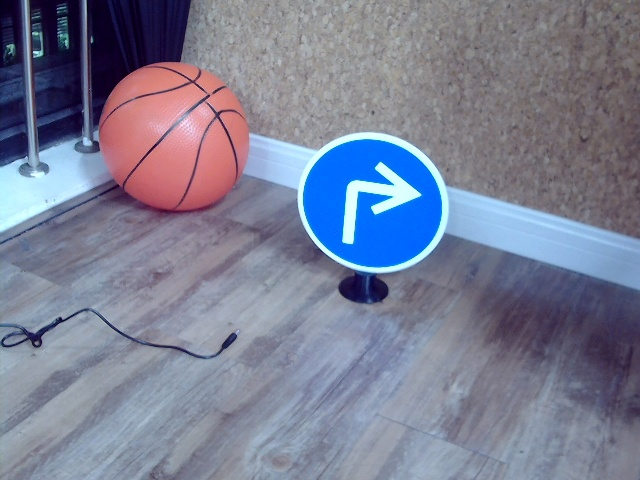turn_right: (333, 166, 416, 242)
